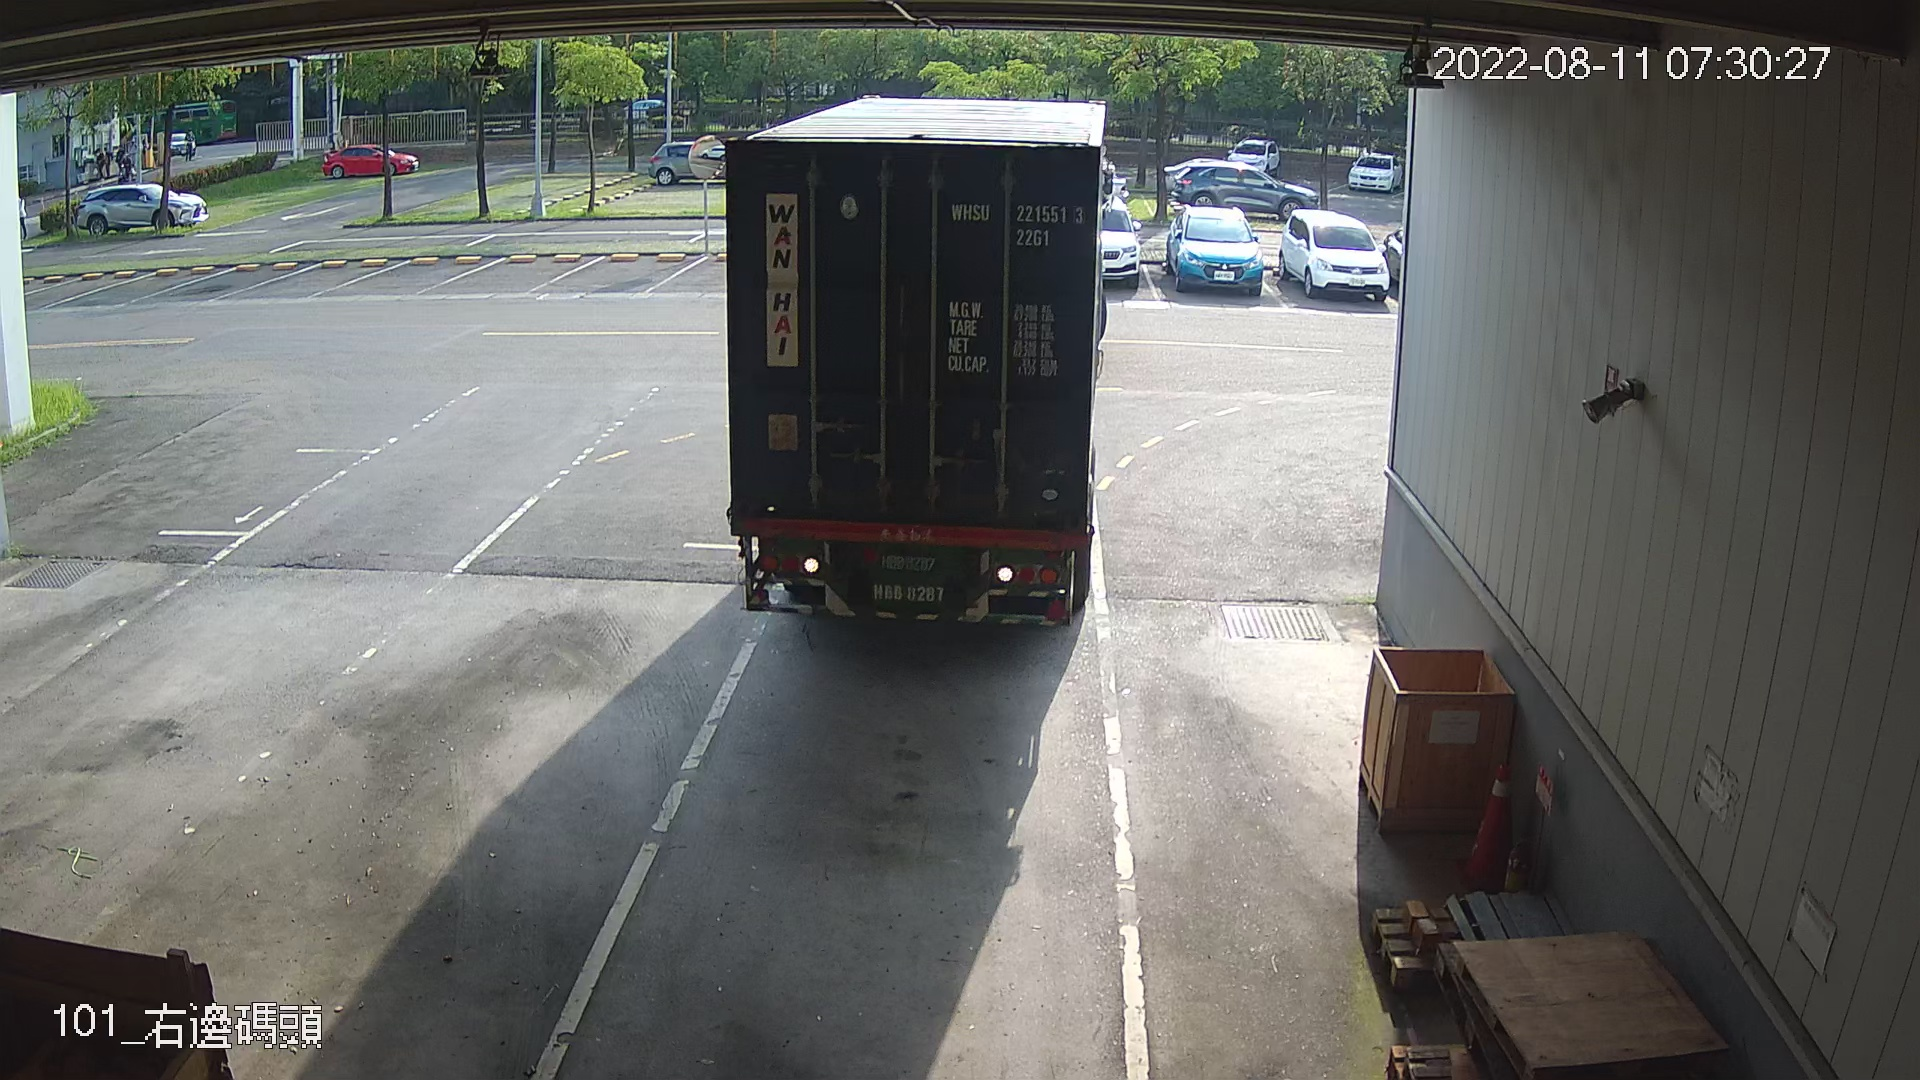container: (942, 193, 1089, 257)
